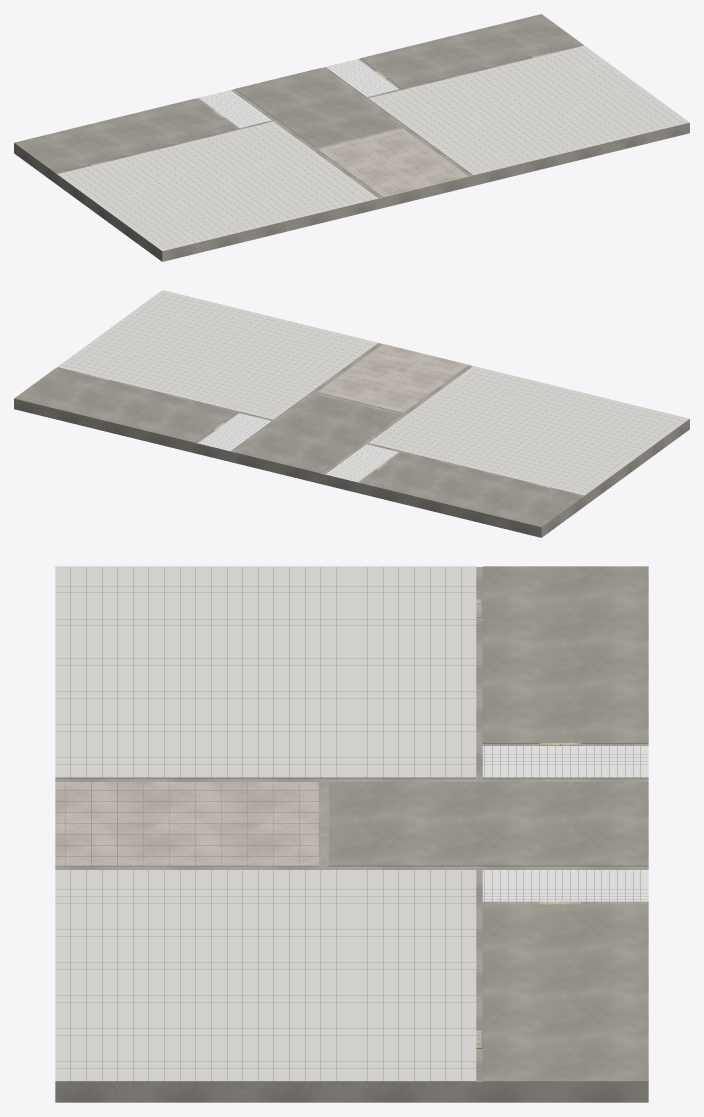
File: slab_g.glb
3 renders of one model, top to bottom at view 1: azimuth 30°, elevation 25°; view 2: azimuth 150°, elevation 25°; view 3: azimuth 270°, elevation 25°, orthographic. The views are drawn at different scales.
Parts seen in each view (by area): view 1: slab_g_tile_f, slab_g_conc_r, slab_g_conc_s, slab_g_terrazzo, slab_g_tile_hex, slab_g_grille; view 2: slab_g_tile_f, slab_g_conc_r, slab_g_conc_s, slab_g_terrazzo, slab_g_tile_hex; view 3: slab_g_tile_f, slab_g_conc_r, slab_g_terrazzo, slab_g_conc_s, slab_g_grille, slab_g_tile_hex, slab_g_stone_c.
Part boxes in pixels (left/top/right/bottom): slab_g_tile_f: left=57, top=45, right=689, bottom=251; slab_g_conc_r: left=14, top=14, right=582, bottom=173; slab_g_conc_s: left=14, top=45, right=689, bottom=261; slab_g_terrazzo: left=317, top=128, right=468, bottom=197; slab_g_tile_hex: left=198, top=59, right=398, bottom=128; slab_g_grille: left=57, top=66, right=689, bottom=251; slab_g_tile_f: left=57, top=290, right=689, bottom=495; slab_g_conc_r: left=14, top=368, right=582, bottom=527; slab_g_conc_s: left=14, top=343, right=689, bottom=537; slab_g_terrazzo: left=317, top=344, right=468, bottom=412; slab_g_tile_hex: left=198, top=413, right=398, bottom=482; slab_g_tile_f: left=55, top=566, right=476, bottom=1081; slab_g_conc_r: left=329, top=566, right=648, bottom=1081; slab_g_terrazzo: left=55, top=782, right=318, bottom=866; slab_g_conc_s: left=55, top=567, right=648, bottom=1102; slab_g_grille: left=55, top=567, right=648, bottom=1081; slab_g_tile_hex: left=482, top=746, right=648, bottom=902; slab_g_stone_c: left=65, top=599, right=580, bottom=1048.
Bounding box in the file's own units: 23.4 × 0.454 × 11.4.
Materials: 7 (4 with a texture image).
